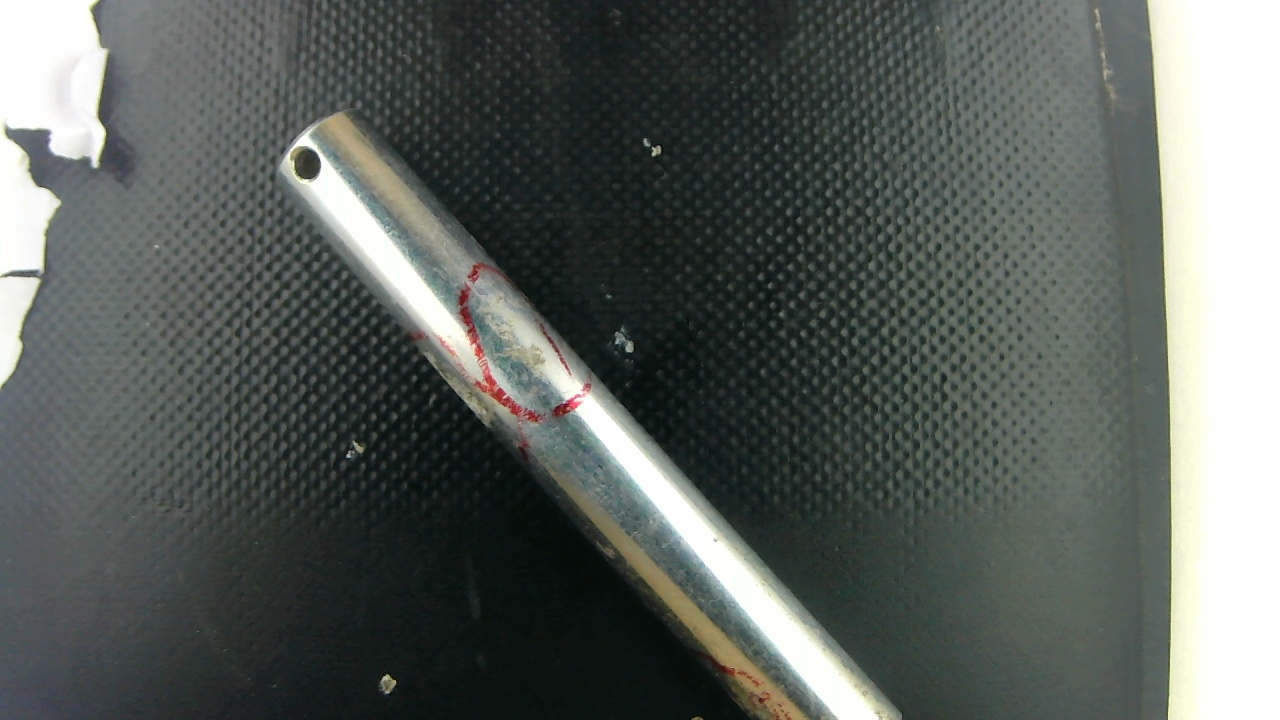whiterust_pin: (469, 271, 552, 380)
